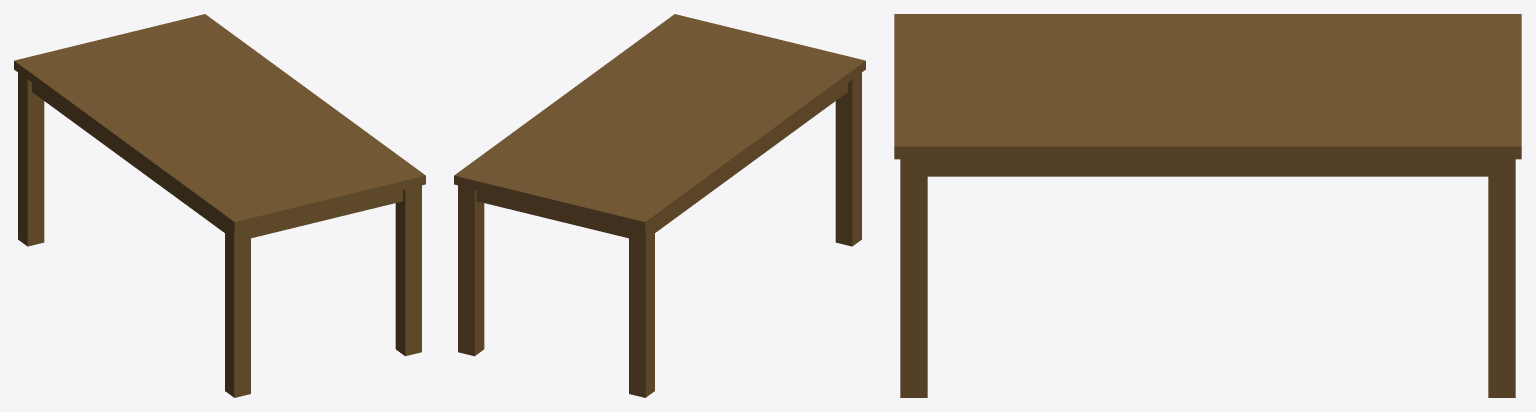
Rendered from Table.gltf.
The picture shows the model from 3 angles, left to right: view 1: azimuth 30°, elevation 25°; view 2: azimuth 150°, elevation 25°; view 3: azimuth 270°, elevation 25°; orthographic projection. The views are drawn at different scales.
Visible parts, largest first — view 1: Tisch; view 2: Tisch; view 3: Tisch.
Boxes of the visible parts, x1,y1,x2,y2 form: Tisch: (14, 14, 425, 397); Tisch: (454, 14, 865, 397); Tisch: (894, 14, 1521, 397).
Size of the model in its own units: 0.9 by 0.8 by 1.8.
